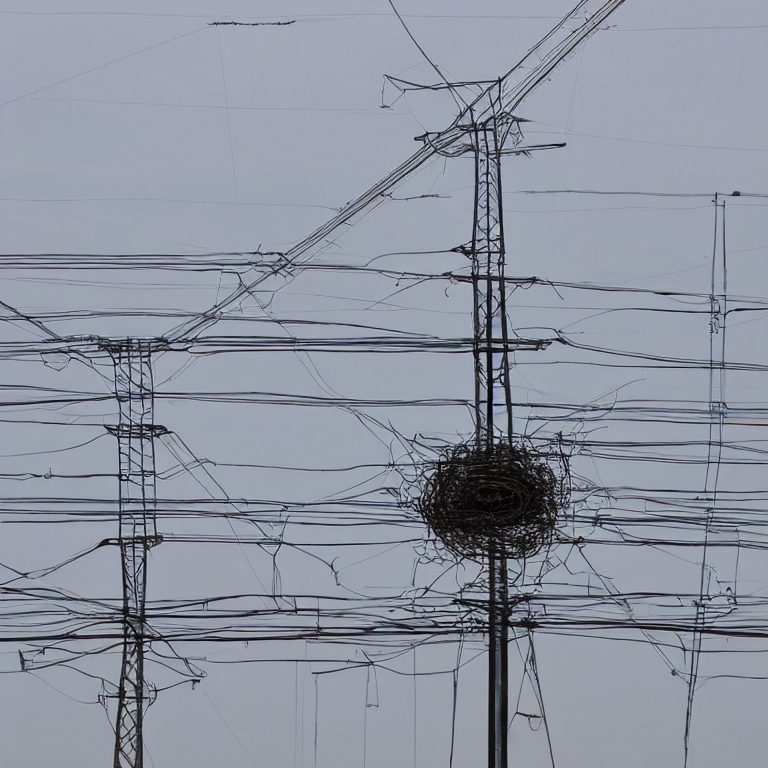nest: (422, 444, 566, 553)
